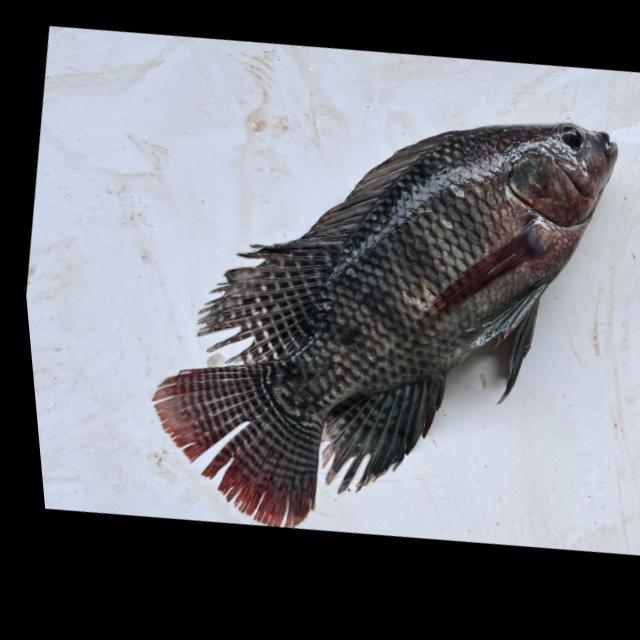Tilapia: (107, 47, 640, 591)
